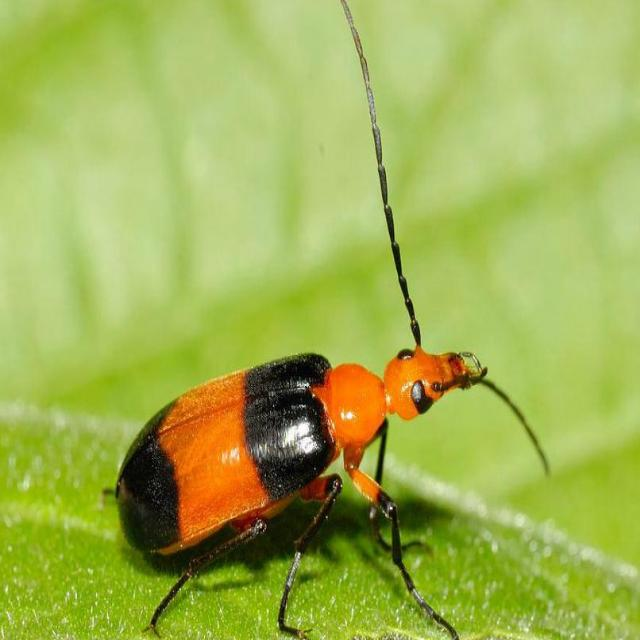BlisterBeetle-Adult-: (83, 306, 558, 630)
